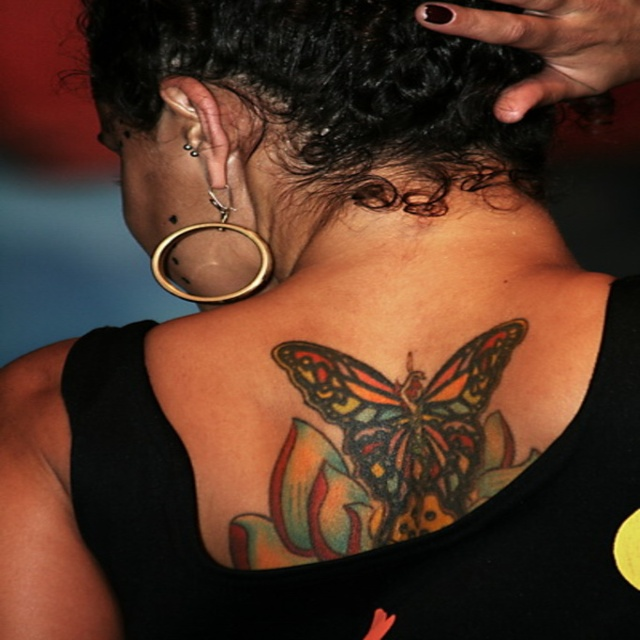Butterfly: (253, 318, 520, 565)
